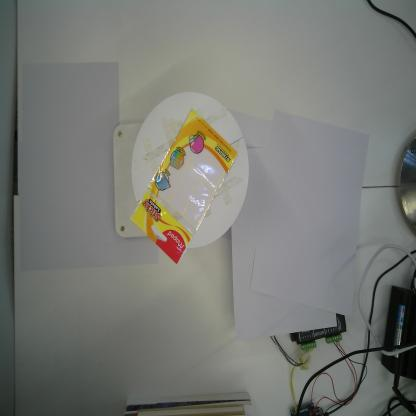Stationery: (127, 105, 241, 267)
